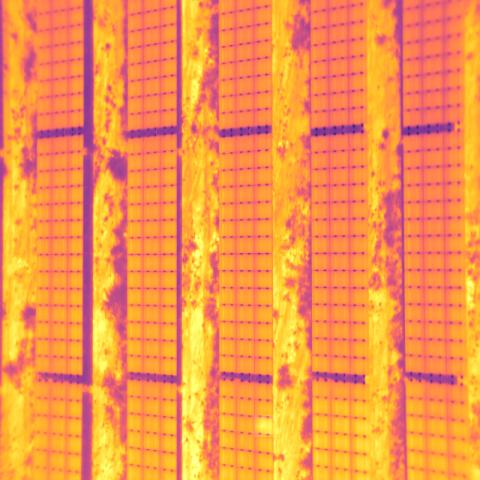fault: (254, 415, 274, 437)
